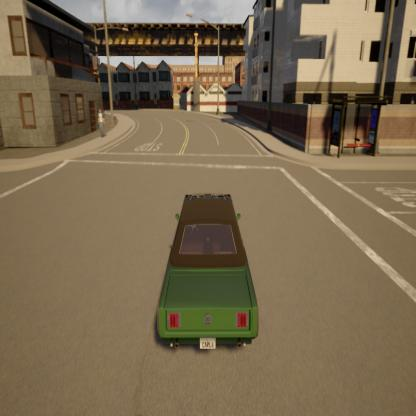Cars: (148, 155, 267, 385)
Pedestrian: (90, 102, 112, 156)
